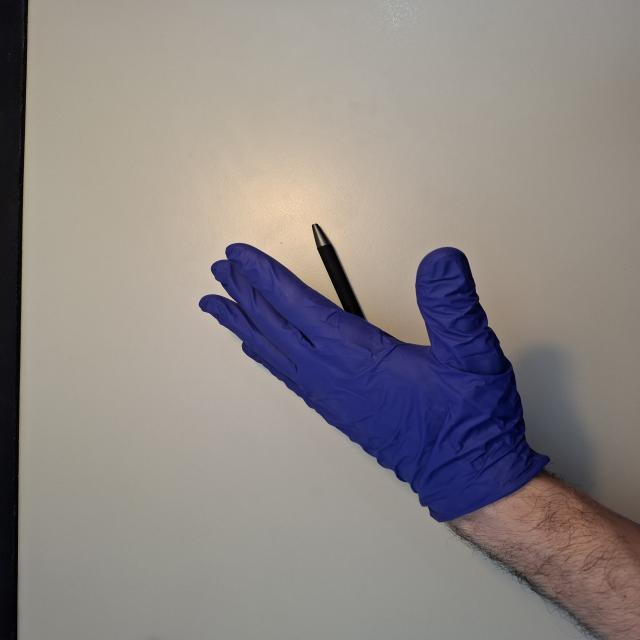glove_on: (196, 242, 546, 520)
